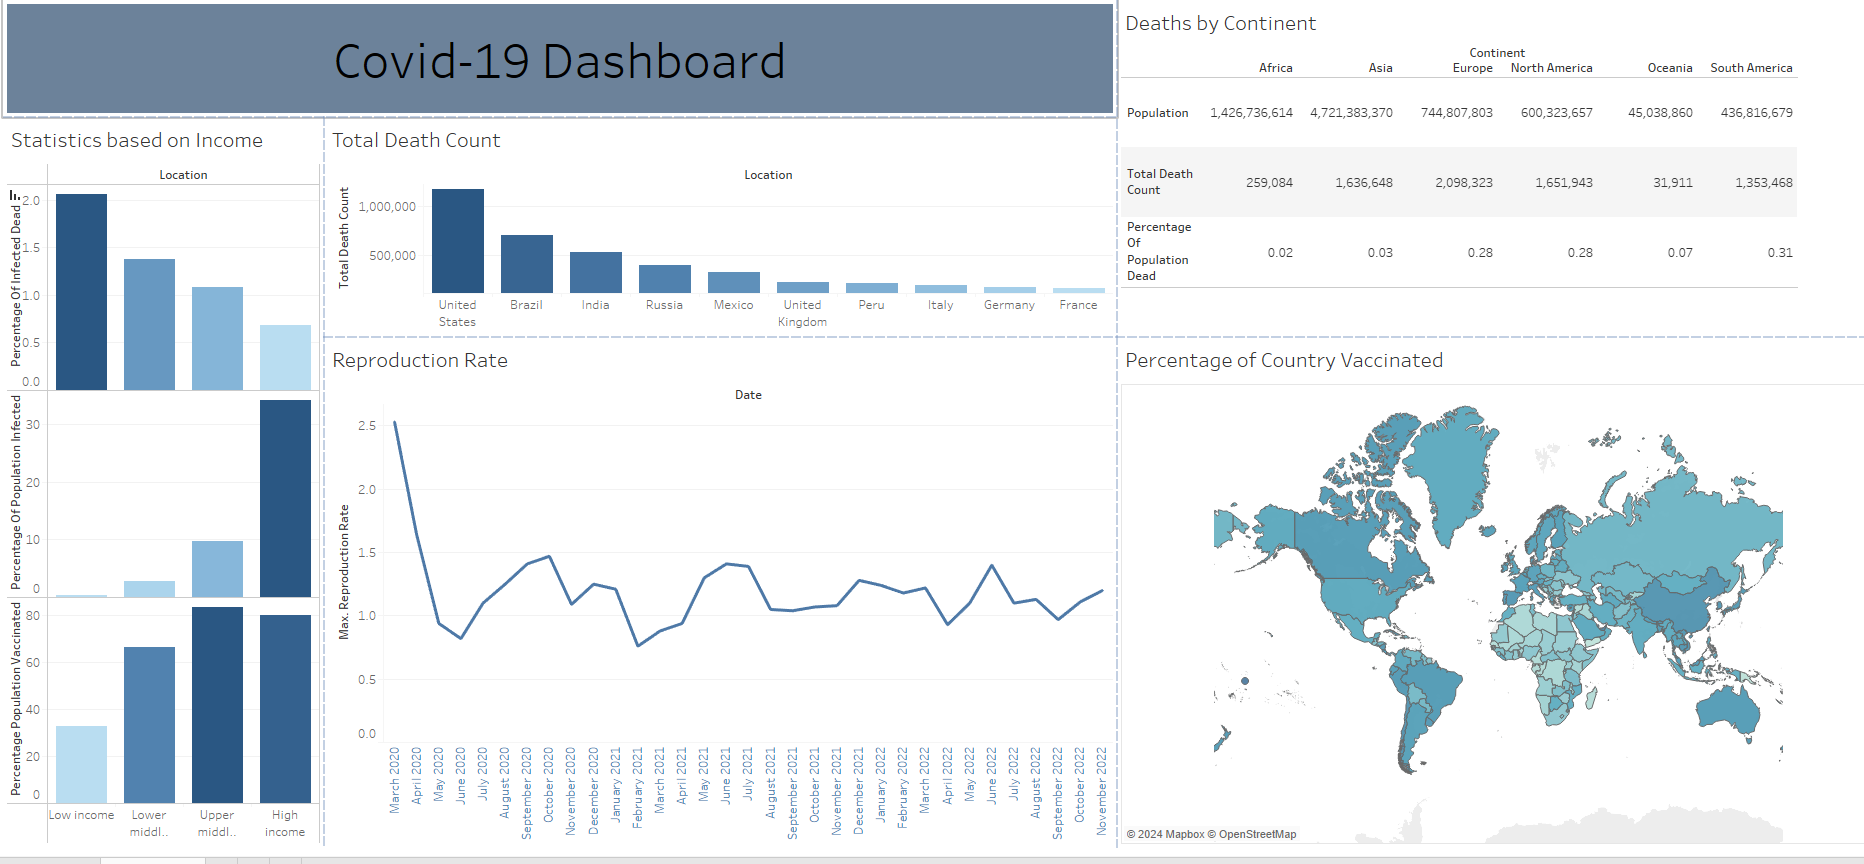

This screenshot's page, from the dashboard's own definition file:
{"tool":"tableau","page":{"name":"Dashboard 1","canvas":[1000,1000],"units":"permille","ordinal":0},"visuals":[{"type":"text","box":[4.2,9.3,588,135.4]},{"type":"worksheet","title":"Sheet 2","mark":"Automatic","cols":["location"],"box":[592.2,9.3,403.5,353]},{"type":"worksheet","title":"Sheet 1","mark":"Automatic","rows":["PercentageOfInfectedDead","PercentageOfPopulationInfected","PercentagePopulationVaccinated"],"cols":["location"],"box":[4.2,144.7,169.2,846.1]},{"type":"worksheet","title":"Sheet 3","mark":"Bar","rows":["TotalDeathCount"],"cols":["Location"],"box":[173.5,144.7,418.8,254.6]},{"type":"worksheet","title":"Sheet 4","mark":"Automatic","rows":["reproduction_rate"],"cols":["date"],"box":[173.5,399.3,418.8,591.4]},{"type":"worksheet","title":"Sheet 5","mark":"Multipolygon","box":[592.2,399.3,403.6,591.4]}]}

Visuals, with their boxes on the dashboard's canvas, which has no fixed pixel size, in thousandths of its width and height (x1, y1, x2, y2). These are canvas units, not pixel positions in the 1864x864 screenshot, which may show the page scaled, cropped or inside an application window:
text: 4, 9, 592, 145
"Sheet 2" worksheet: 592, 9, 996, 362
"Sheet 1" worksheet: 4, 145, 173, 991
"Sheet 3" worksheet (Bar marks): 174, 145, 592, 399
"Sheet 4" worksheet: 174, 399, 592, 991
"Sheet 5" worksheet (Multipolygon marks): 592, 399, 996, 991
